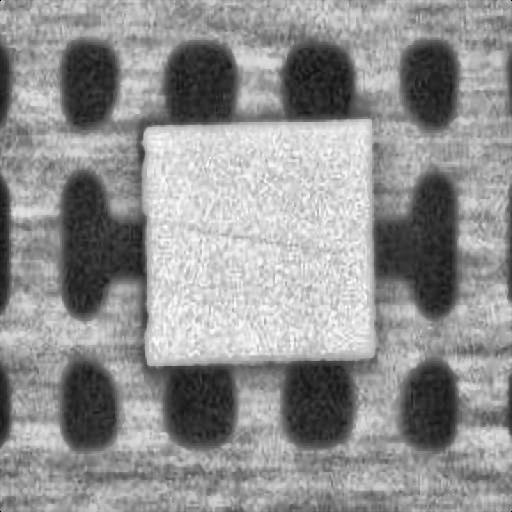DIE_CRACK: (236, 147, 504, 167)
